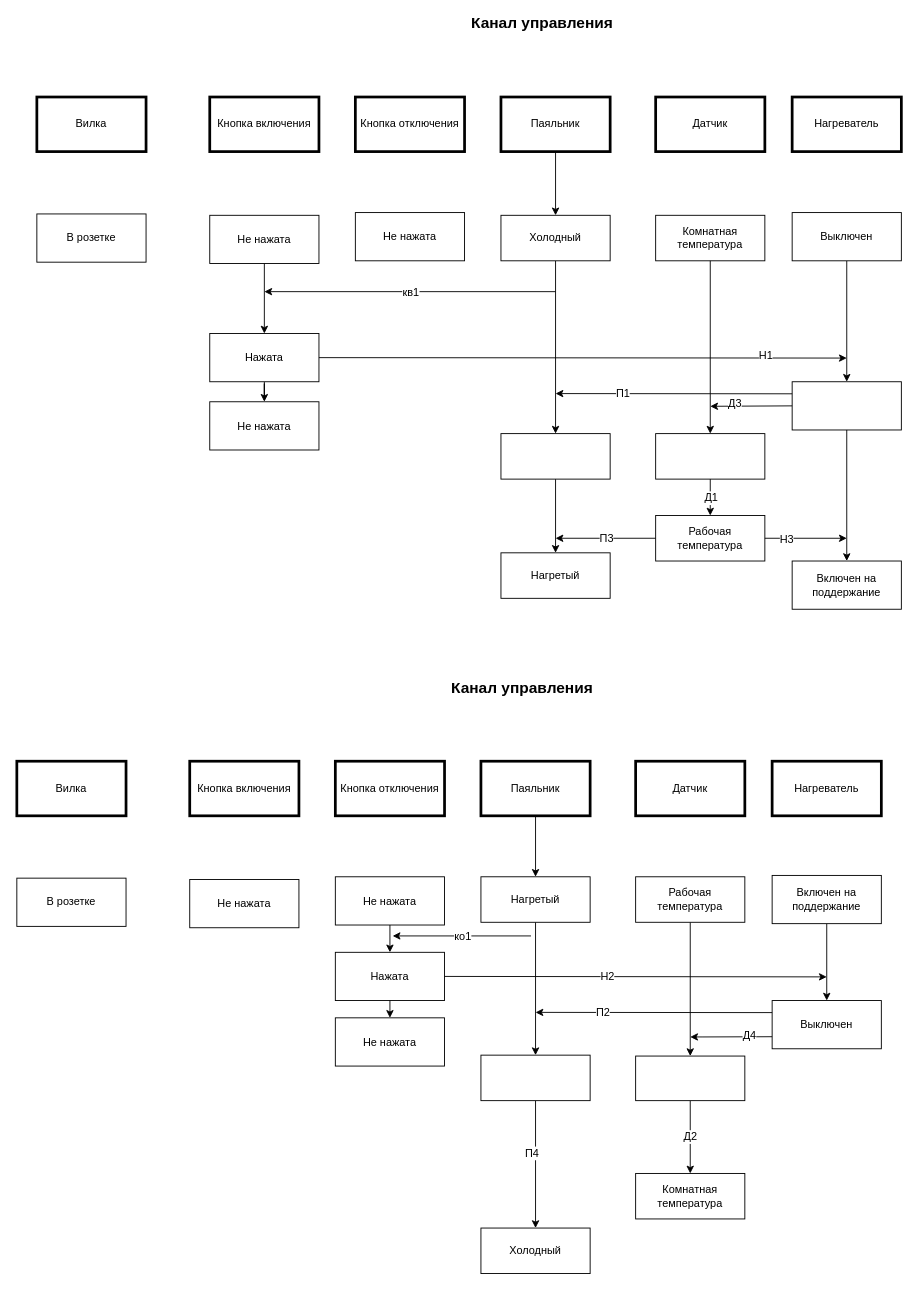
Some shapes in this 918 by 1290 pixel diagram are drawn without their labels. Here are the shapes that lost their labels. From the top down, the centre of each, then its label:
At (x=846, y=405): "Включен на нагрев".
At (x=555, y=456): "Нагревается".
At (x=710, y=456): "Температура растет".
At (x=535, y=1077): "Остывает".
At (x=690, y=1078): "Температура понижается".
